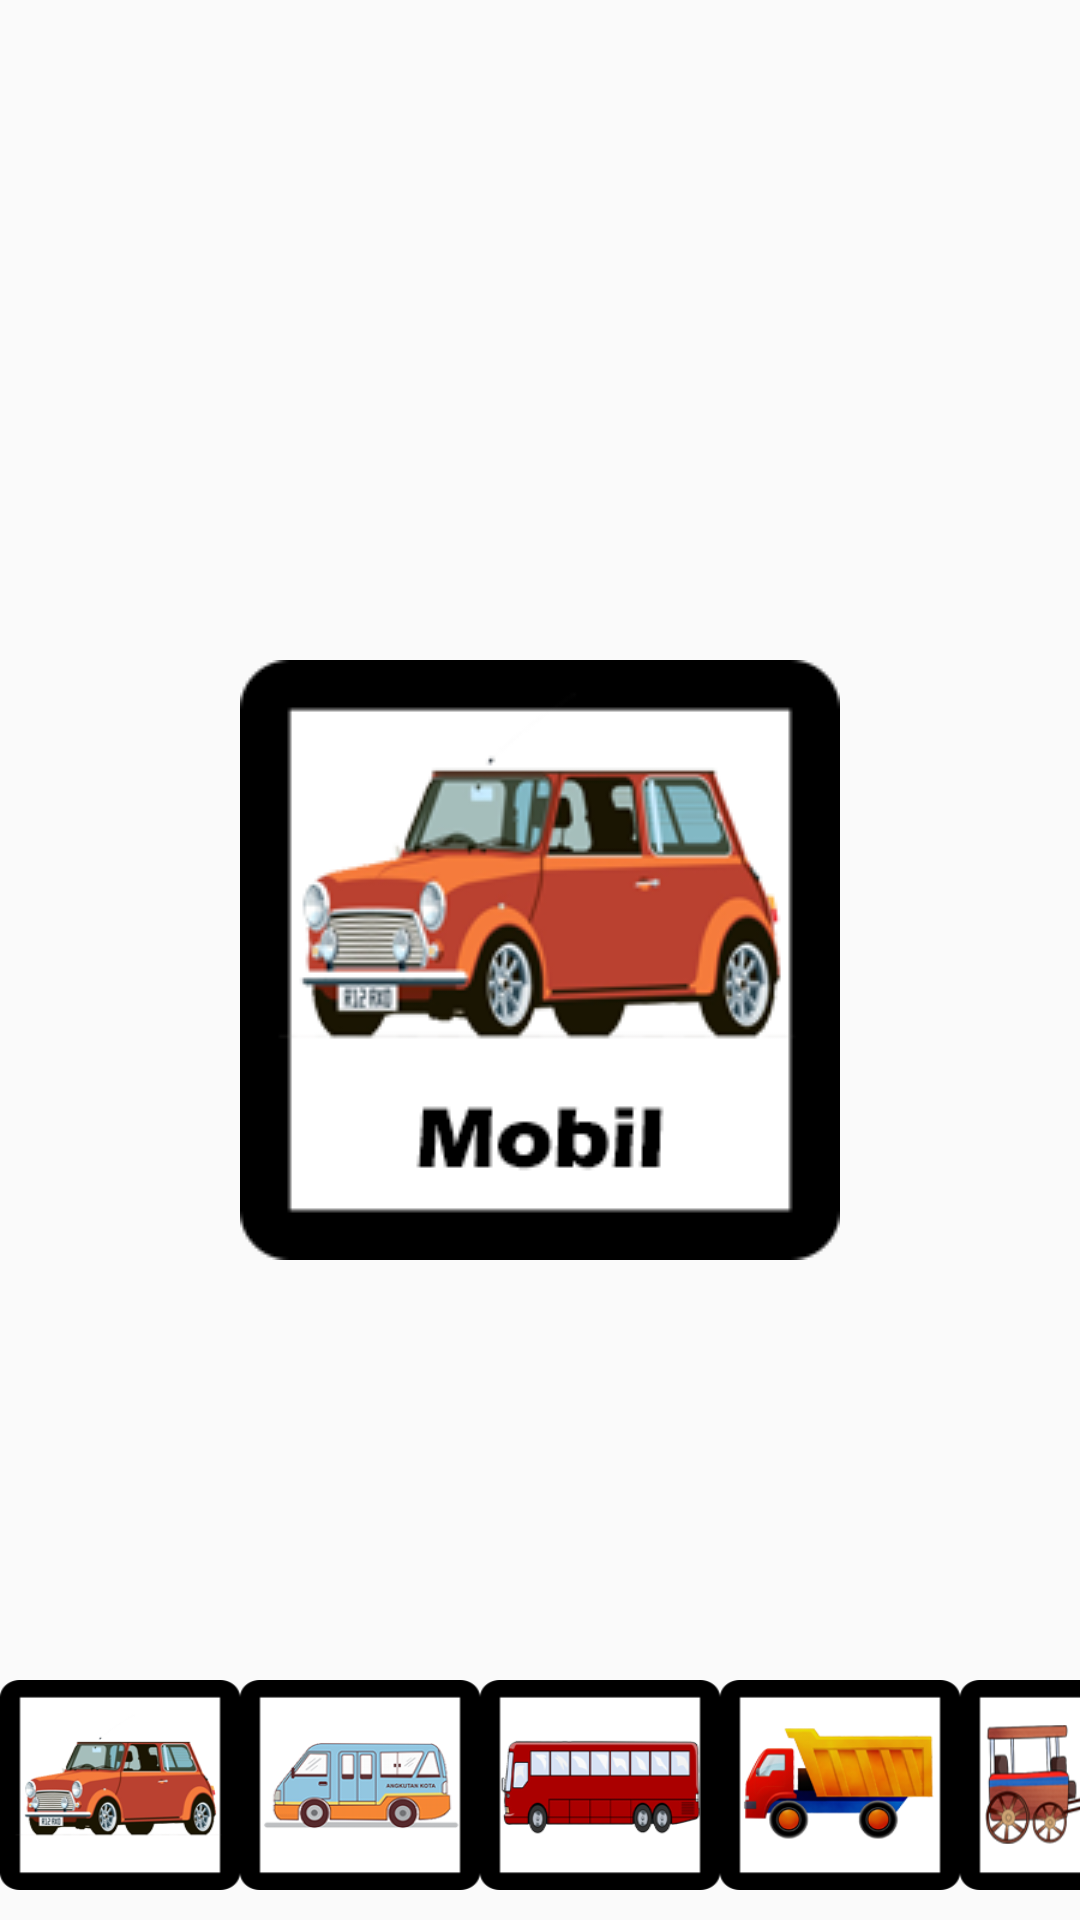

Icon click points for this 1080 x 1920 phone screenshot, format [x,y]:
angkot: [360,1785]
bus: [600,1785]
mobil: [120,1785]
truk: [840,1785]
